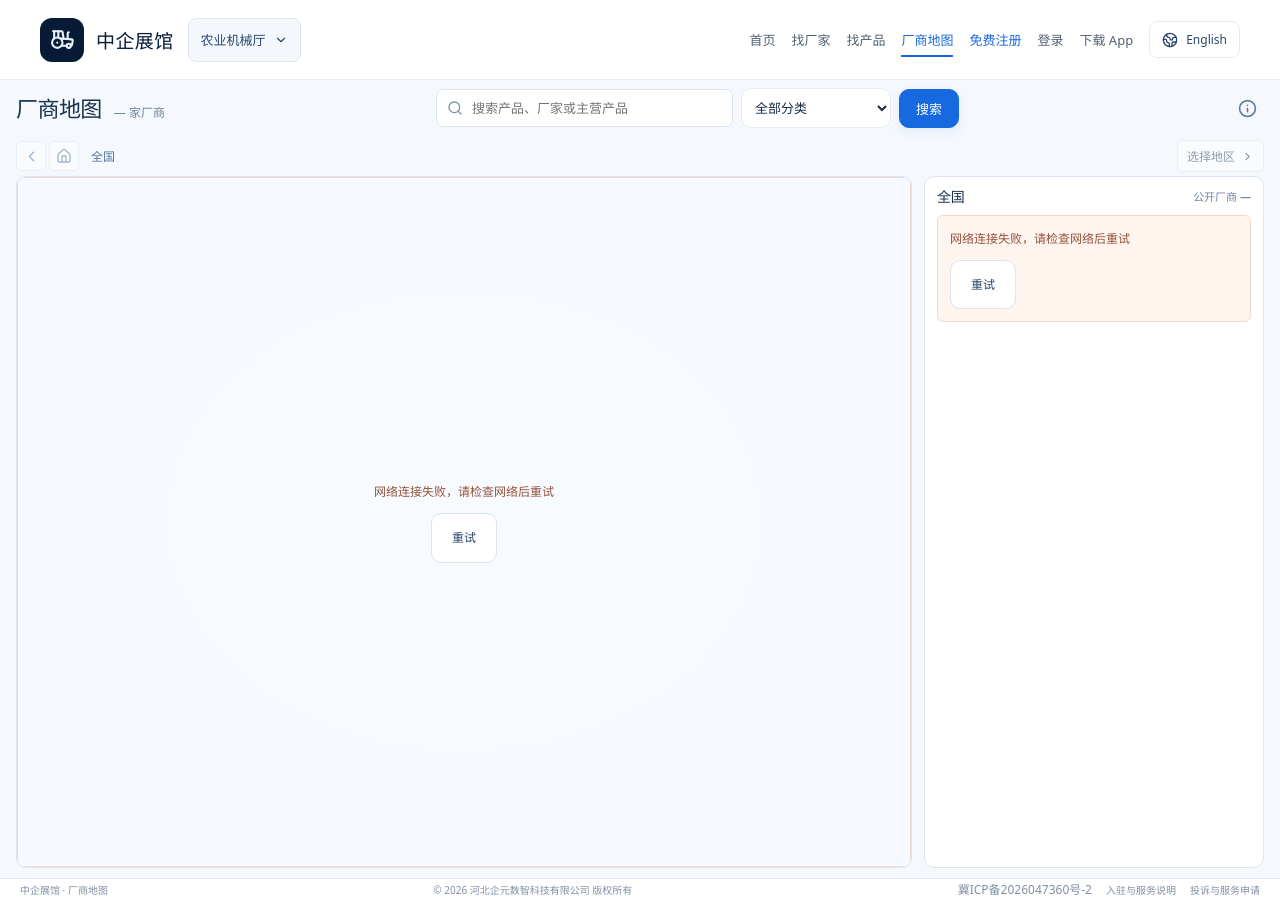
it: does not request a manufacturer page when statistics fail
Click the 2nd button "重试": coordinates (464, 538) [431, 513, 497, 563]
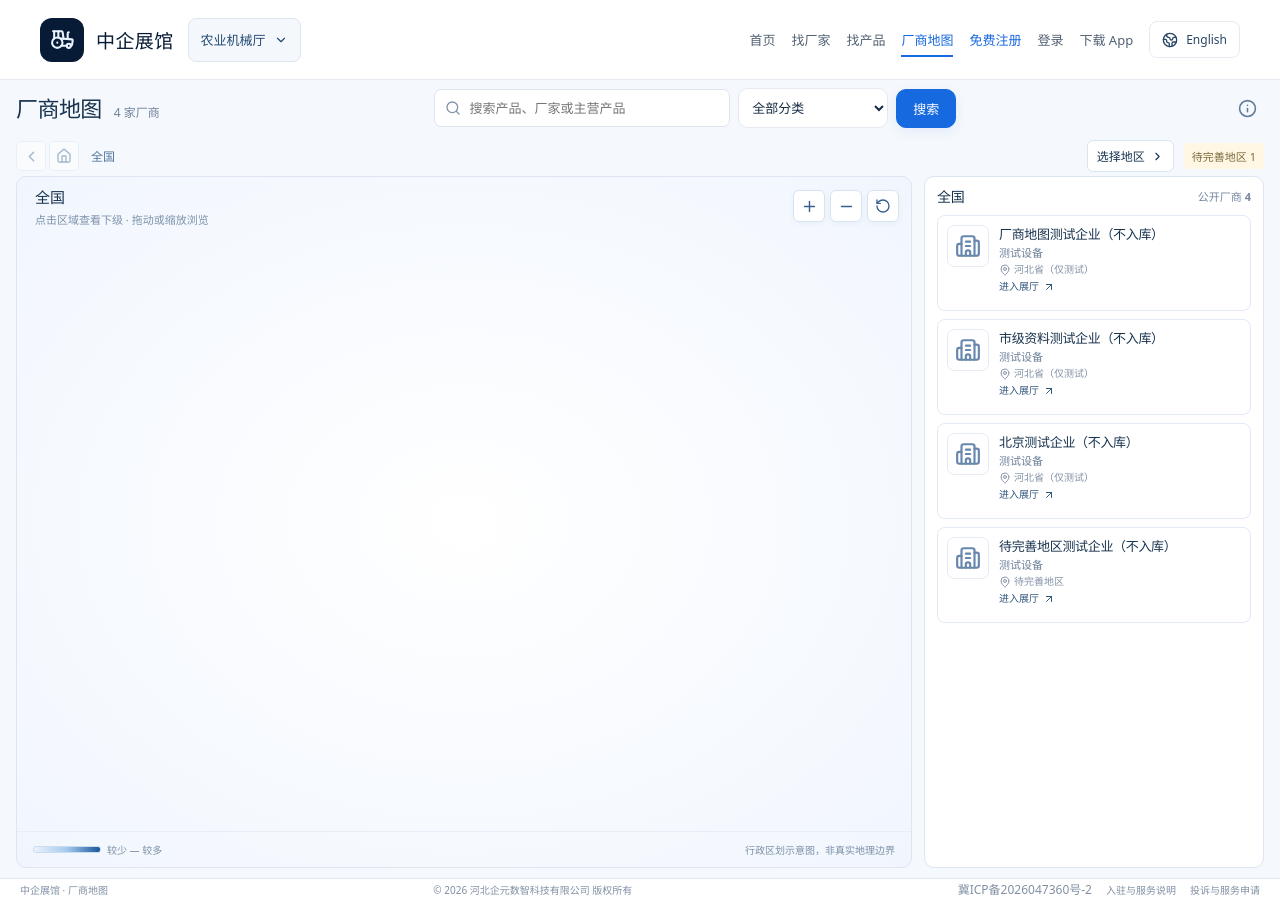
Result: the icon named "test diagram" is shown at [17, 235, 317, 385]
